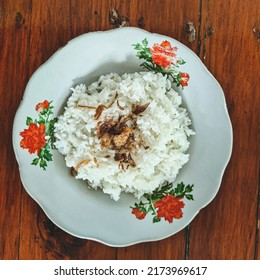Nasi Putih: (28, 55, 192, 233)
